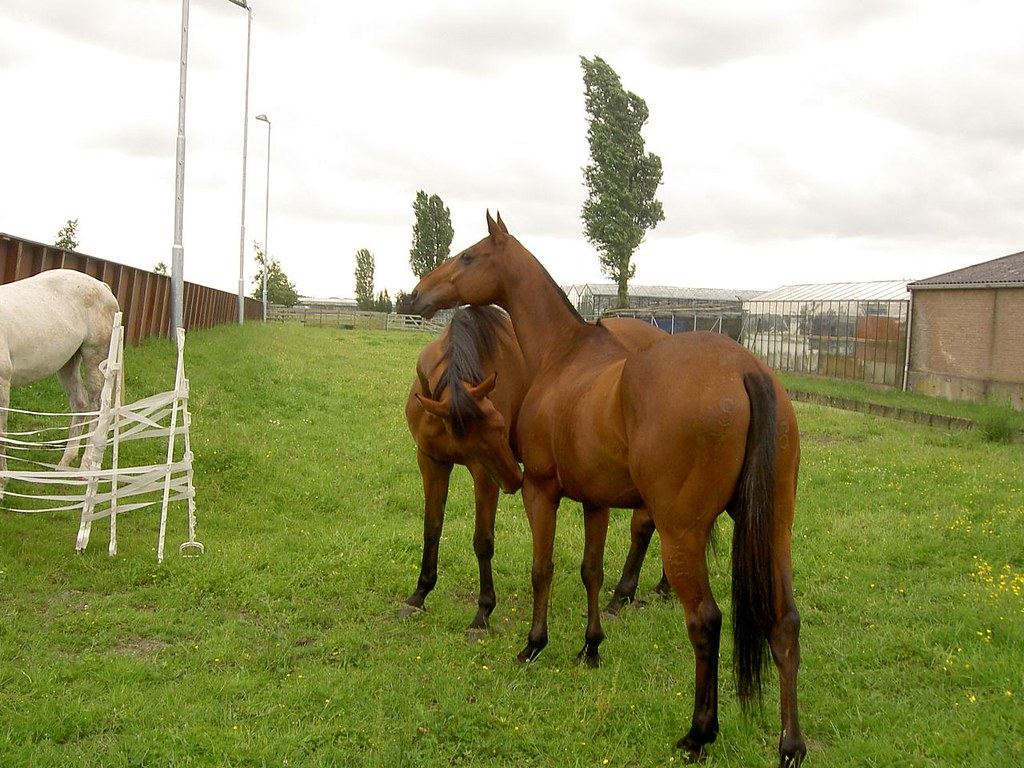horse: (413, 207, 893, 759), (407, 306, 527, 638), (1, 263, 128, 493)
